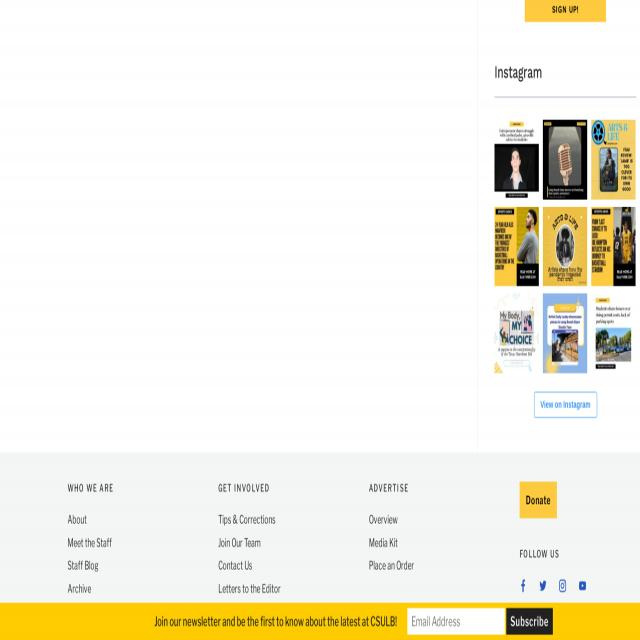button: (591, 119, 635, 201), (543, 294, 588, 374), (590, 294, 636, 372), (495, 120, 539, 200), (543, 120, 587, 200), (495, 206, 539, 286), (543, 206, 587, 286), (591, 208, 635, 288), (495, 294, 539, 374), (525, 0, 607, 23), (534, 392, 596, 417), (520, 482, 557, 518), (506, 609, 553, 634), (575, 576, 590, 597), (516, 576, 531, 597), (536, 576, 550, 598), (556, 576, 570, 598)
field: (408, 608, 506, 634)
